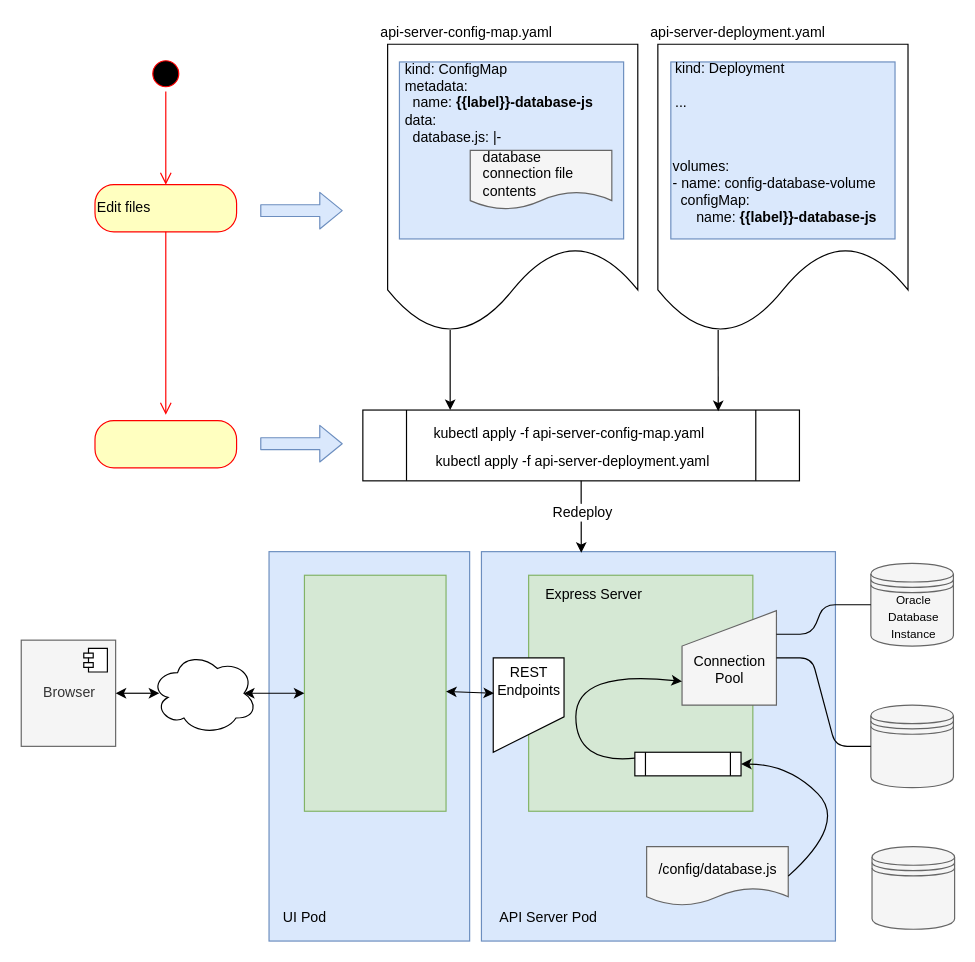
This 975x962 diagram has some shape labels left out. Here are the shapes that lost their labels. From the top down, the centre of each, then its label:
At (x=165, y=443): "Apply changes".
At (x=374, y=692): "Nginx + Angular".
At (x=687, y=763): "Initialization".
